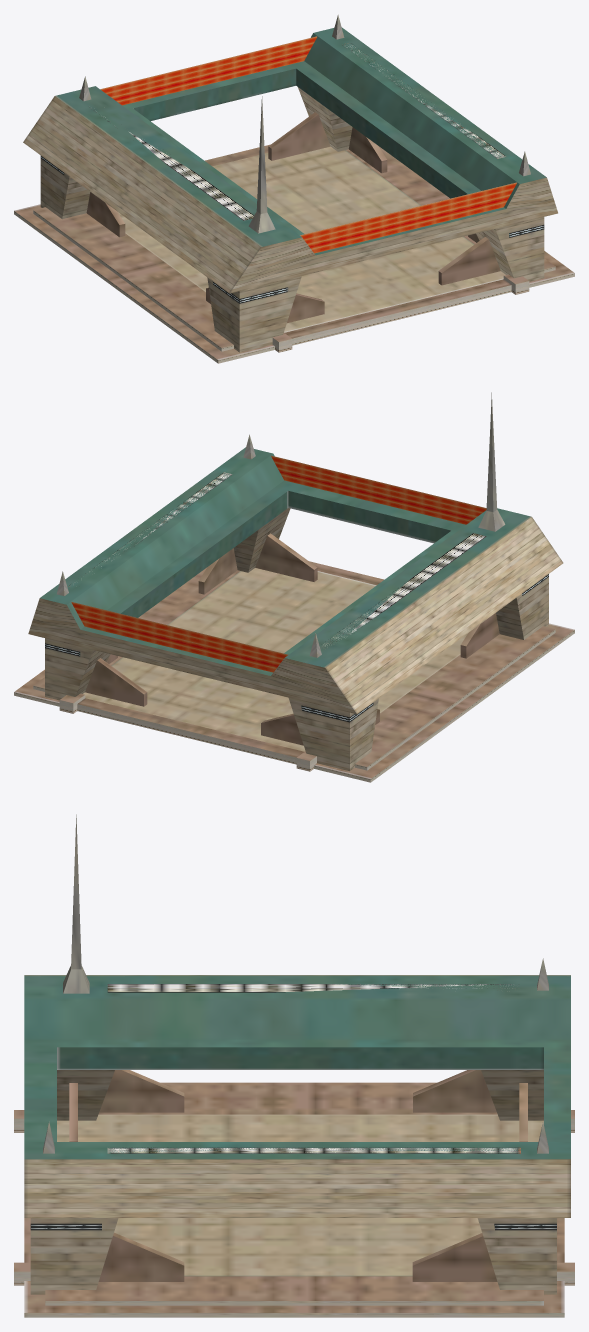
File: mun_nboo_shuttleport_s01_l3.fbx
The picture shows the model from 3 angles, top to bottom: view 1: azimuth 30°, elevation 25°; view 2: azimuth 150°, elevation 25°; view 3: azimuth 270°, elevation 25°; orthographic projection. The views are drawn at different scales.
Parts seen in each view (by area): view 1: mesh_node; view 2: mesh_node; view 3: mesh_node.
Boxes of the visible parts, x1=… form: mesh_node: x1=14, y1=14, x2=574, y2=363; mesh_node: x1=14, y1=392, x2=574, y2=782; mesh_node: x1=14, y1=814, x2=574, y2=1317.
Size of the model in its own units: 31.47 by 20.21 by 32.4.
